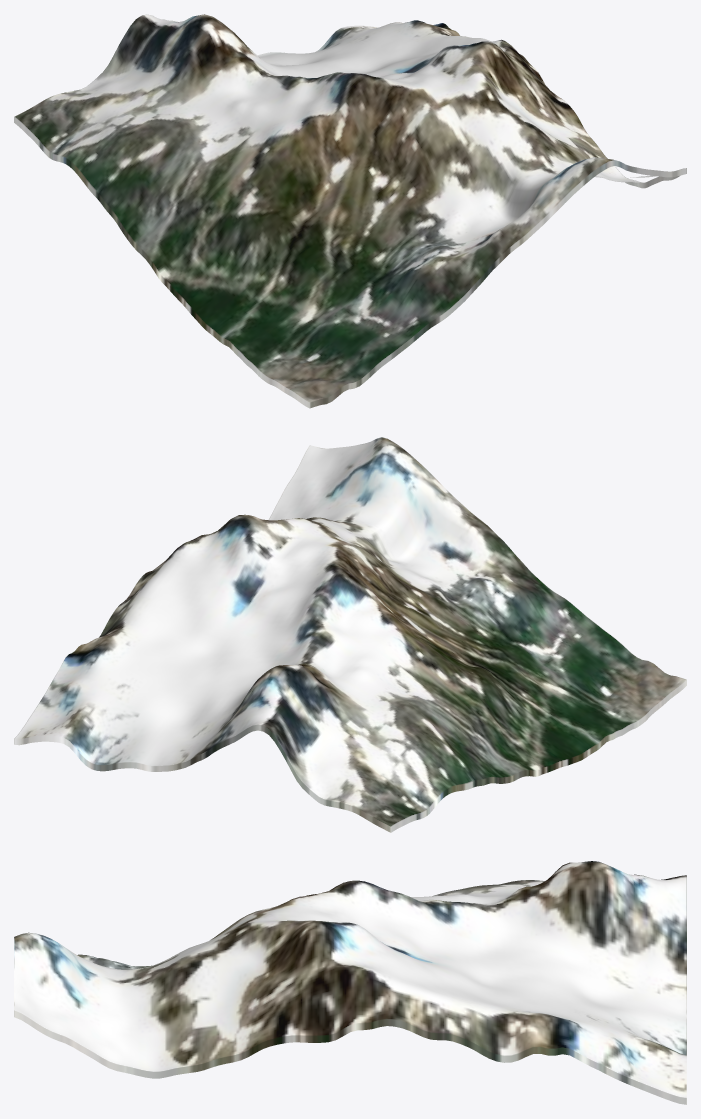
3 views of the same model, one above another, from view 1: azimuth 30°, elevation 25°; view 2: azimuth 150°, elevation 25°; view 3: azimuth 270°, elevation 25° (orthographic). The views are drawn at different scales.
Parts seen in each view (by area): view 1: tile; view 2: tile; view 3: tile.
Part boxes in pixels (x1,y1,x2,y2): tile: (14, 14, 686, 408); tile: (14, 437, 686, 832); tile: (14, 861, 686, 1104).
Bounding box in the file's own units: 2025 × 1013 × 2752.
Materials: 1 (1 with a texture image).
